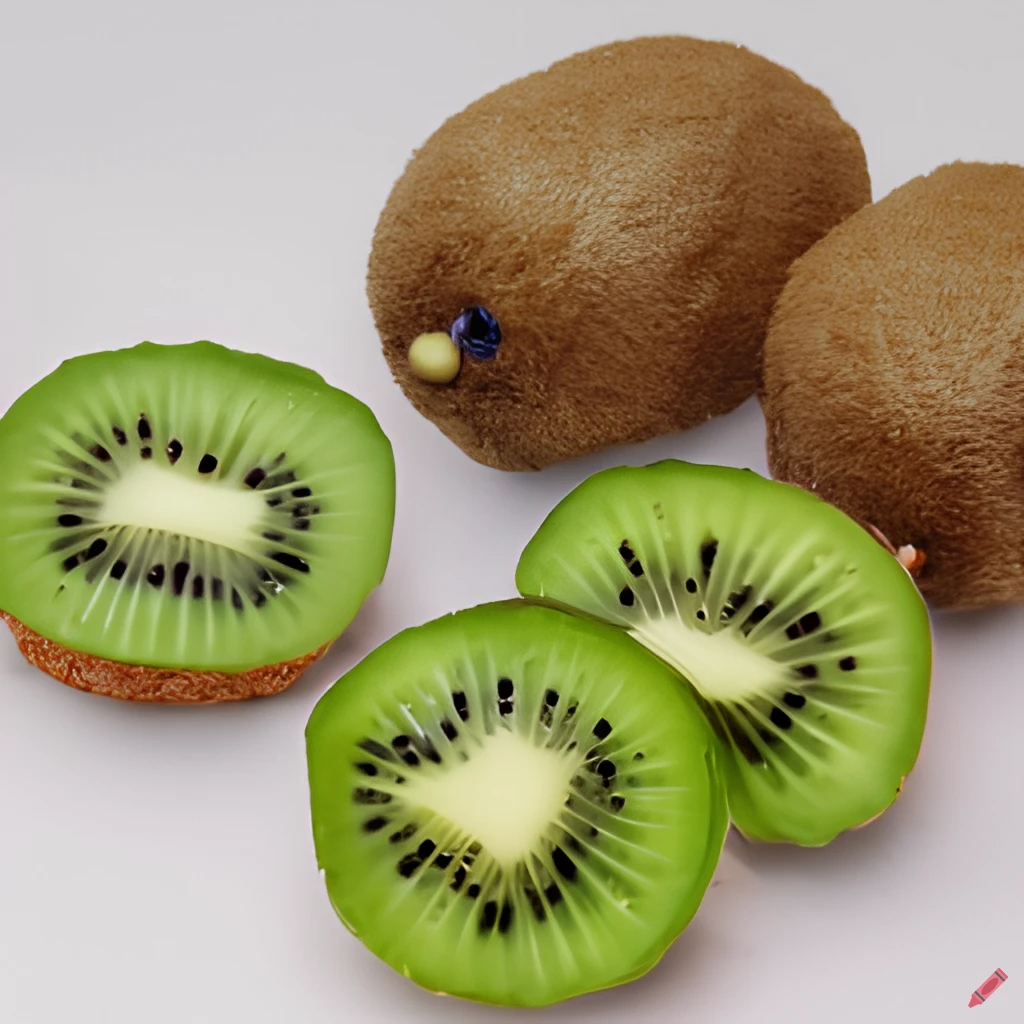Kiwi: (758, 120, 1024, 600)
